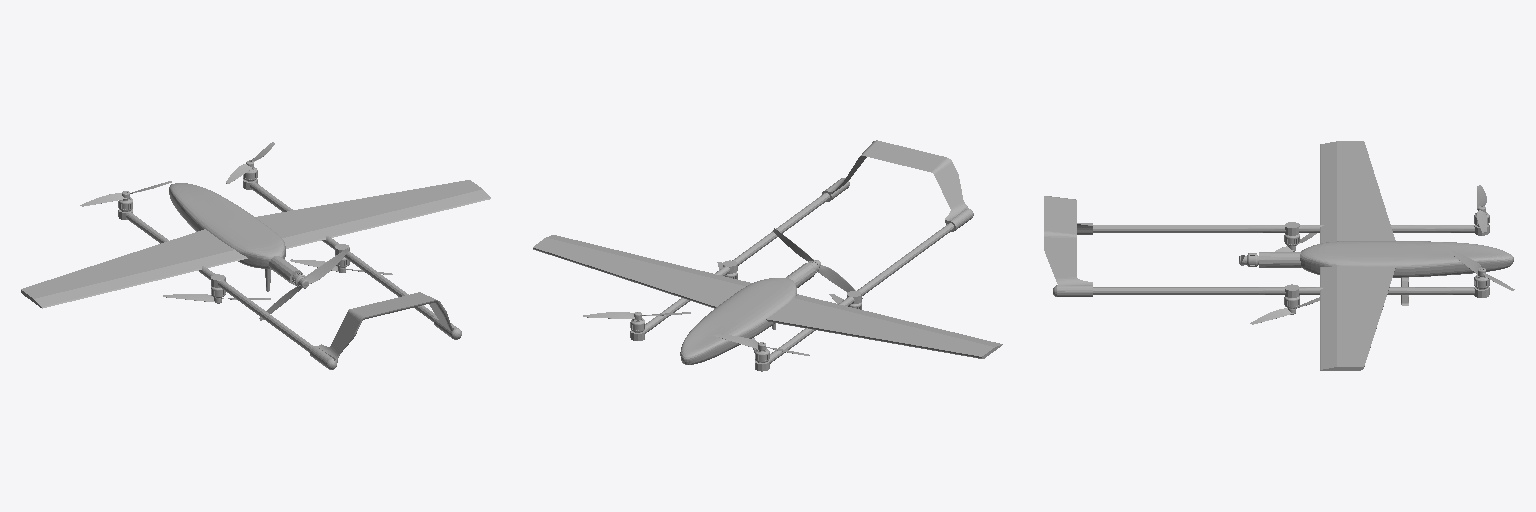
The robot description file, URDF, robot "yoonsewon":
<?xml version="1.0" ?>
<!-- =================================================================================== -->
<!-- |    This document was autogenerated by xacro from yoonsewon.xacro                | -->
<!-- |    EDITING THIS FILE BY HAND IS NOT RECOMMENDED                                 | -->
<!-- =================================================================================== -->
<robot name="yoonsewon">
  <material name="silver">
    <color rgba="0.700 0.700 0.700 1.000"/>
  </material>
  <transmission name="joint2_tran">
    <type>transmission_interface/SimpleTransmission</type>
    <joint name="joint2">
      <hardwareInterface>hardware_interface/EffortJointInterface</hardwareInterface>
    </joint>
    <actuator name="joint2_actr">
      <hardwareInterface>hardware_interface/EffortJointInterface</hardwareInterface>
      <mechanicalReduction>1</mechanicalReduction>
    </actuator>
  </transmission>
  <transmission name="joint3_tran">
    <type>transmission_interface/SimpleTransmission</type>
    <joint name="joint3">
      <hardwareInterface>hardware_interface/EffortJointInterface</hardwareInterface>
    </joint>
    <actuator name="joint3_actr">
      <hardwareInterface>hardware_interface/EffortJointInterface</hardwareInterface>
      <mechanicalReduction>1</mechanicalReduction>
    </actuator>
  </transmission>
  <transmission name="joint4_tran">
    <type>transmission_interface/SimpleTransmission</type>
    <joint name="joint4">
      <hardwareInterface>hardware_interface/EffortJointInterface</hardwareInterface>
    </joint>
    <actuator name="joint4_actr">
      <hardwareInterface>hardware_interface/EffortJointInterface</hardwareInterface>
      <mechanicalReduction>1</mechanicalReduction>
    </actuator>
  </transmission>
  <transmission name="joint5_tran">
    <type>transmission_interface/SimpleTransmission</type>
    <joint name="joint5">
      <hardwareInterface>hardware_interface/EffortJointInterface</hardwareInterface>
    </joint>
    <actuator name="joint5_actr">
      <hardwareInterface>hardware_interface/EffortJointInterface</hardwareInterface>
      <mechanicalReduction>1</mechanicalReduction>
    </actuator>
  </transmission>
  <transmission name="joint6_tran">
    <type>transmission_interface/SimpleTransmission</type>
    <joint name="joint6">
      <hardwareInterface>hardware_interface/EffortJointInterface</hardwareInterface>
    </joint>
    <actuator name="joint6_actr">
      <hardwareInterface>hardware_interface/EffortJointInterface</hardwareInterface>
      <mechanicalReduction>1</mechanicalReduction>
    </actuator>
  </transmission>
  <gazebo>
    <plugin filename="libgazebo_ros_control.so" name="control"/>
  </gazebo>
  <gazebo reference="base_link">
    <material>Gazebo/Silver</material>
    <mu1>0.2</mu1>
    <mu2>0.2</mu2>
    <selfCollide>true</selfCollide>
    <gravity>true</gravity>
  </gazebo>
  <gazebo reference="motor_v1_1">
    <material>Gazebo/Silver</material>
    <mu1>0.2</mu1>
    <mu2>0.2</mu2>
    <selfCollide>true</selfCollide>
  </gazebo>
  <gazebo reference="motor_v1__1__1">
    <material>Gazebo/Silver</material>
    <mu1>0.2</mu1>
    <mu2>0.2</mu2>
    <selfCollide>true</selfCollide>
  </gazebo>
  <gazebo reference="motor_v1__2__1">
    <material>Gazebo/Silver</material>
    <mu1>0.2</mu1>
    <mu2>0.2</mu2>
    <selfCollide>true</selfCollide>
  </gazebo>
  <gazebo reference="motor_v1__3__1">
    <material>Gazebo/Silver</material>
    <mu1>0.2</mu1>
    <mu2>0.2</mu2>
    <selfCollide>true</selfCollide>
  </gazebo>
  <gazebo reference="motor2_v1_1">
    <material>Gazebo/Silver</material>
    <mu1>0.2</mu1>
    <mu2>0.2</mu2>
    <selfCollide>true</selfCollide>
  </gazebo>
  <gazebo reference="profeller_1350_v1_1">
    <material>Gazebo/Silver</material>
    <mu1>0.2</mu1>
    <mu2>0.2</mu2>
    <selfCollide>true</selfCollide>
  </gazebo>
  <gazebo reference="profeller_1350_v1__2__1">
    <material>Gazebo/Silver</material>
    <mu1>0.2</mu1>
    <mu2>0.2</mu2>
    <selfCollide>true</selfCollide>
  </gazebo>
  <gazebo reference="profeller_1350_v1__3__1">
    <material>Gazebo/Silver</material>
    <mu1>0.2</mu1>
    <mu2>0.2</mu2>
    <selfCollide>true</selfCollide>
  </gazebo>
  <gazebo reference="profeller_1480_v1_1">
    <material>Gazebo/Silver</material>
    <mu1>0.2</mu1>
    <mu2>0.2</mu2>
    <selfCollide>true</selfCollide>
  </gazebo>
  <gazebo reference="profeller_1350_v1__1__1">
    <material>Gazebo/Silver</material>
    <mu1>0.2</mu1>
    <mu2>0.2</mu2>
    <selfCollide>true</selfCollide>
  </gazebo>
  <gazebo reference="tail_v1_1">
    <material>Gazebo/Silver</material>
    <mu1>0.2</mu1>
    <mu2>0.2</mu2>
    <selfCollide>true</selfCollide>
  </gazebo>
  <link name="base_link">
    <inertial>
      <origin rpy="0 0 0" xyz="0.2048172438463916 0.5237278515907052 0.08201638480100135"/>
      <mass value="9.256673612924148"/>
      <inertia ixx="0.418621" ixy="-0.000337" ixz="2.8e-05" iyy="0.634233" iyz="0.000423" izz="1.048893"/>
    </inertial>
    <visual>
      <origin rpy="0 0 0" xyz="0 0 0"/>
      <geometry>
        <mesh filename="package://yoonsewon_description/meshes/base_link.stl" scale="0.001 0.001 0.001"/>
      </geometry>
      <material name="silver"/>
    </visual>
    <collision>
      <origin rpy="0 0 0" xyz="0 0 0"/>
      <geometry>
        <mesh filename="package://yoonsewon_description/meshes/base_link.stl" scale="0.001 0.001 0.001"/>
      </geometry>
    </collision>
  </link>
  <link name="motor_v1_1">
    <inertial>
      <origin rpy="0 0 0" xyz="-4.839509504181438e-07 3.918150555115574e-07 -0.021724105831364887"/>
      <mass value="0.05852628730136243"/>
      <inertia ixx="1.5e-05" ixy="-0.0" ixz="-0.0" iyy="1.5e-05" iyz="0.0" izz="1.3e-05"/>
    </inertial>
    <visual>
      <origin rpy="0 0 0" xyz="0.01668 -0.296981 -0.06493"/>
      <geometry>
        <mesh filename="package://yoonsewon_description/meshes/motor_v1_1.stl" scale="0.001 0.001 0.001"/>
      </geometry>
      <material name="silver"/>
    </visual>
    <collision>
      <origin rpy="0 0 0" xyz="0.01668 -0.296981 -0.06493"/>
      <geometry>
        <mesh filename="package://yoonsewon_description/meshes/motor_v1_1.stl" scale="0.001 0.001 0.001"/>
      </geometry>
    </collision>
  </link>
  <link name="motor_v1__1__1">
    <inertial>
      <origin rpy="0 0 0" xyz="2.4292782574431016e-07 3.918150148773947e-07 -0.02172410583136445"/>
      <mass value="0.05852628730136243"/>
      <inertia ixx="1.5e-05" ixy="-0.0" ixz="-0.0" iyy="1.5e-05" iyz="0.0" izz="1.3e-05"/>
    </inertial>
    <visual>
      <origin rpy="0 0 0" xyz="-0.425468 -0.296981 -0.06493"/>
      <geometry>
        <mesh filename="package://yoonsewon_description/meshes/motor_v1__1__1.stl" scale="0.001 0.001 0.001"/>
      </geometry>
      <material name="silver"/>
    </visual>
    <collision>
      <origin rpy="0 0 0" xyz="-0.425468 -0.296981 -0.06493"/>
      <geometry>
        <mesh filename="package://yoonsewon_description/meshes/motor_v1__1__1.stl" scale="0.001 0.001 0.001"/>
      </geometry>
    </collision>
  </link>
  <link name="motor_v1__2__1">
    <inertial>
      <origin rpy="0 0 0" xyz="2.4292744760234797e-07 2.601037856209132e-07 0.021724261441448622"/>
      <mass value="0.05852628730136243"/>
      <inertia ixx="1.5e-05" ixy="-0.0" ixz="-0.0" iyy="1.5e-05" iyz="0.0" izz="1.3e-05"/>
    </inertial>
    <visual>
      <origin rpy="0 0 0" xyz="-0.425468 -0.865228 -0.08933"/>
      <geometry>
        <mesh filename="package://yoonsewon_description/meshes/motor_v1__2__1.stl" scale="0.001 0.001 0.001"/>
      </geometry>
      <material name="silver"/>
    </visual>
    <collision>
      <origin rpy="0 0 0" xyz="-0.425468 -0.865228 -0.08933"/>
      <geometry>
        <mesh filename="package://yoonsewon_description/meshes/motor_v1__2__1.stl" scale="0.001 0.001 0.001"/>
      </geometry>
    </collision>
  </link>
  <link name="motor_v1__3__1">
    <inertial>
      <origin rpy="0 0 0" xyz="-4.839514688298463e-07 2.601034713167749e-07 0.021724261441448248"/>
      <mass value="0.05852628730136243"/>
      <inertia ixx="1.5e-05" ixy="-0.0" ixz="-0.0" iyy="1.5e-05" iyz="-0.0" izz="1.3e-05"/>
    </inertial>
    <visual>
      <origin rpy="0 0 0" xyz="0.01668 -0.865228 -0.08933"/>
      <geometry>
        <mesh filename="package://yoonsewon_description/meshes/motor_v1__3__1.stl" scale="0.001 0.001 0.001"/>
      </geometry>
      <material name="silver"/>
    </visual>
    <collision>
      <origin rpy="0 0 0" xyz="0.01668 -0.865228 -0.08933"/>
      <geometry>
        <mesh filename="package://yoonsewon_description/meshes/motor_v1__3__1.stl" scale="0.001 0.001 0.001"/>
      </geometry>
    </collision>
  </link>
  <link name="motor2_v1_1">
    <inertial>
      <origin rpy="0 0 0" xyz="-1.2051151535019677e-07 -0.01995018890125902 3.1915735547449753e-07"/>
      <mass value="0.04532760237460443"/>
      <inertia ixx="1e-05" ixy="-0.0" ixz="0.0" iyy="8e-06" iyz="-0.0" izz="1e-05"/>
    </inertial>
    <visual>
      <origin rpy="0 0 0" xyz="-0.204394 -0.196572 -0.076661"/>
      <geometry>
        <mesh filename="package://yoonsewon_description/meshes/motor2_v1_1.stl" scale="0.001 0.001 0.001"/>
      </geometry>
      <material name="silver"/>
    </visual>
    <collision>
      <origin rpy="0 0 0" xyz="-0.204394 -0.196572 -0.076661"/>
      <geometry>
        <mesh filename="package://yoonsewon_description/meshes/motor2_v1_1.stl" scale="0.001 0.001 0.001"/>
      </geometry>
    </collision>
  </link>
  <link name="profeller_1350_v1_1">
    <inertial>
      <origin rpy="0 0 0" xyz="1.819620451447798 0.32072524408078307 -0.07514680253907399"/>
      <mass value="0.01689409412325324"/>
      <inertia ixx="1e-06" ixy="-1e-06" ixz="-0.0" iyy="5.2e-05" iyz="0.0" izz="5.3e-05"/>
    </inertial>
    <visual>
      <origin rpy="0 0 0" xyz="1.834902 -0.544557 -0.215692"/>
      <geometry>
        <mesh filename="package://yoonsewon_description/meshes/profeller_1350_v1_1.stl" scale="0.001 0.001 0.001"/>
      </geometry>
      <material name="silver"/>
    </visual>
    <collision>
      <origin rpy="0 0 0" xyz="1.834902 -0.544557 -0.215692"/>
      <geometry>
        <mesh filename="package://yoonsewon_description/meshes/profeller_1350_v1_1.stl" scale="0.001 0.001 0.001"/>
      </geometry>
    </collision>
  </link>
  <link name="profeller_1350_v1__2__1">
    <inertial>
      <origin rpy="0 0 0" xyz="-1.0090401475123467 1.7427246844552697 -0.04163980253907425"/>
      <mass value="0.01689409412325324"/>
      <inertia ixx="1.8e-05" ixy="2.4e-05" ixz="0.0" iyy="3.5e-05" iyz="-0.0" izz="5.3e-05"/>
    </inertial>
    <visual>
      <origin rpy="0 0 0" xyz="-0.9912 1.444959 -0.058634"/>
      <geometry>
        <mesh filename="package://yoonsewon_description/meshes/profeller_1350_v1__2__1.stl" scale="0.001 0.001 0.001"/>
      </geometry>
      <material name="silver"/>
    </visual>
    <collision>
      <origin rpy="0 0 0" xyz="-0.9912 1.444959 -0.058634"/>
      <geometry>
        <mesh filename="package://yoonsewon_description/meshes/profeller_1350_v1__2__1.stl" scale="0.001 0.001 0.001"/>
      </geometry>
    </collision>
  </link>
  <link name="profeller_1350_v1__3__1">
    <inertial>
      <origin rpy="0 0 0" xyz="-0.25352015005843626 1.6035870253492162 -0.0421548025390739"/>
      <mass value="0.01689409412325324"/>
      <inertia ixx="3.1e-05" ixy="2.5e-05" ixz="0.0" iyy="2.3e-05" iyz="-0.0" izz="5.3e-05"/>
    </inertial>
    <visual>
      <origin rpy="0 0 0" xyz="-0.678062 1.305556 -0.058634"/>
      <geometry>
        <mesh filename="package://yoonsewon_description/meshes/profeller_1350_v1__3__1.stl" scale="0.001 0.001 0.001"/>
      </geometry>
      <material name="silver"/>
    </visual>
    <collision>
      <origin rpy="0 0 0" xyz="-0.678062 1.305556 -0.058634"/>
      <geometry>
        <mesh filename="package://yoonsewon_description/meshes/profeller_1350_v1__3__1.stl" scale="0.001 0.001 0.001"/>
      </geometry>
    </collision>
  </link>
  <link name="profeller_1480_v1_1">
    <inertial>
      <origin rpy="0 0 0" xyz="-0.9063261119491344 0.018091728521597378 -1.4489643108148564"/>
      <mass value="0.020359256171264842"/>
      <inertia ixx="1.6e-05" ixy="-0.0" ixz="-2.8e-05" iyy="7.3e-05" iyz="-0.0" izz="5.8e-05"/>
    </inertial>
    <visual>
      <origin rpy="0 0 0" xyz="-1.109376 -0.12983 -1.52492"/>
      <geometry>
        <mesh filename="package://yoonsewon_description/meshes/profeller_1480_v1_1.stl" scale="0.001 0.001 0.001"/>
      </geometry>
      <material name="silver"/>
    </visual>
    <collision>
      <origin rpy="0 0 0" xyz="-1.109376 -0.12983 -1.52492"/>
      <geometry>
        <mesh filename="package://yoonsewon_description/meshes/profeller_1480_v1_1.stl" scale="0.001 0.001 0.001"/>
      </geometry>
    </collision>
  </link>
  <link name="profeller_1350_v1__1__1">
    <inertial>
      <origin rpy="0 0 0" xyz="0.0011634836447337316 0.0007792373525745688 0.011897197460926406"/>
      <mass value="0.01689409412325324"/>
      <inertia ixx="1.6e-05" ixy="-2.3e-05" ixz="-0.0" iyy="3.7e-05" iyz="-0.0" izz="5.3e-05"/>
    </inertial>
    <visual>
      <origin rpy="0 0 0" xyz="-0.425468 -0.865228 -0.129448"/>
      <geometry>
        <mesh filename="package://yoonsewon_description/meshes/profeller_1350_v1__1__1.stl" scale="0.001 0.001 0.001"/>
      </geometry>
      <material name="silver"/>
    </visual>
    <collision>
      <origin rpy="0 0 0" xyz="-0.425468 -0.865228 -0.129448"/>
      <geometry>
        <mesh filename="package://yoonsewon_description/meshes/profeller_1350_v1__1__1.stl" scale="0.001 0.001 0.001"/>
      </geometry>
    </collision>
  </link>
  <link name="tail_v1_1">
    <inertial>
      <origin rpy="0 0 0" xyz="-0.42296819185358203 -0.613794025567939 -0.02257370288866689"/>
      <mass value="0.4550748977110902"/>
      <inertia ixx="0.002474" ixy="-5e-06" ixz="9.4e-05" iyy="0.014714" iyz="0.000673" izz="0.013426"/>
    </inertial>
    <visual>
      <origin rpy="0 0 0" xyz="-0.629862 -0.224219 -0.174019"/>
      <geometry>
        <mesh filename="package://yoonsewon_description/meshes/tail_v1_1.stl" scale="0.001 0.001 0.001"/>
      </geometry>
      <material name="silver"/>
    </visual>
    <collision>
      <origin rpy="0 0 0" xyz="-0.629862 -0.224219 -0.174019"/>
      <geometry>
        <mesh filename="package://yoonsewon_description/meshes/tail_v1_1.stl" scale="0.001 0.001 0.001"/>
      </geometry>
    </collision>
  </link>
  <joint name="joint2" type="continuous">
    <origin rpy="0 0 0" xyz="-0.01668 0.296981 0.06493"/>
    <parent link="base_link"/>
    <child link="motor_v1_1"/>
    <axis xyz="-0.0 -0.0 -1.0"/>
  </joint>
  <joint name="joint3" type="continuous">
    <origin rpy="0 0 0" xyz="0.425468 0.296981 0.06493"/>
    <parent link="base_link"/>
    <child link="motor_v1__1__1"/>
    <axis xyz="-0.0 -0.0 -1.0"/>
  </joint>
  <joint name="joint4" type="continuous">
    <origin rpy="0 0 0" xyz="0.425468 0.865228 0.08933"/>
    <parent link="base_link"/>
    <child link="motor_v1__2__1"/>
    <axis xyz="0.0 0.0 1.0"/>
  </joint>
  <joint name="joint5" type="continuous">
    <origin rpy="0 0 0" xyz="-0.01668 0.865228 0.08933"/>
    <parent link="base_link"/>
    <child link="motor_v1__3__1"/>
    <axis xyz="0.0 0.0 1.0"/>
  </joint>
  <joint name="joint6" type="continuous">
    <origin rpy="0 0 0" xyz="0.204394 0.196572 0.076661"/>
    <parent link="base_link"/>
    <child link="motor2_v1_1"/>
    <axis xyz="-0.0 -1.0 0.0"/>
  </joint>
  <joint name="joint7" type="fixed">
    <origin rpy="0 0 0" xyz="-1.818222 -0.320671 0.126362"/>
    <parent link="motor_v1__3__1"/>
    <child link="profeller_1350_v1_1"/>
  </joint>
  <joint name="joint9" type="fixed">
    <origin rpy="0 0 0" xyz="1.00788 -1.74194 -0.006296"/>
    <parent link="motor_v1_1"/>
    <child link="profeller_1350_v1__2__1"/>
  </joint>
  <joint name="joint10" type="fixed">
    <origin rpy="0 0 0" xyz="0.252594 -1.602537 -0.006296"/>
    <parent link="motor_v1__1__1"/>
    <child link="profeller_1350_v1__3__1"/>
  </joint>
  <joint name="joint11" type="fixed">
    <origin rpy="0 0 0" xyz="0.904982 -0.066742 1.448259"/>
    <parent link="motor2_v1_1"/>
    <child link="profeller_1480_v1_1"/>
  </joint>
  <joint name="joint12" type="fixed">
    <origin rpy="0 0 0" xyz="0.0 0.0 0.040118"/>
    <parent link="motor_v1__2__1"/>
    <child link="profeller_1350_v1__1__1"/>
  </joint>
  <joint name="joint13" type="fixed">
    <origin rpy="0 0 0" xyz="0.629862 0.224219 0.174019"/>
    <parent link="base_link"/>
    <child link="tail_v1_1"/>
  </joint>
</robot>

--- What the picture shows (computed from the rendered views, not written in the file) ---
Views: 3 orthographic renders of the robot side by side, from view 1: azimuth 30°, elevation 25°; view 2: azimuth 150°, elevation 25°; view 3: azimuth 270°, elevation 25°.
Model yoonsewon with 12 links and 11 joints (5 continuous, 6 fixed), rooted at base_link, posed every joint at zero.
Visible links, largest first — view 1: base_link, tail_v1_1, profeller_1480_v1_1; view 2: base_link, tail_v1_1, profeller_1480_v1_1; view 3: base_link, tail_v1_1.
Boxes of the visible links, x1,y1,x2,y2 form: base_link: (21, 179, 490, 352); tail_v1_1: (310, 292, 461, 369); profeller_1480_v1_1: (259, 248, 348, 320); base_link: (533, 193, 1002, 371); tail_v1_1: (822, 140, 973, 231); profeller_1480_v1_1: (773, 228, 862, 298); base_link: (1093, 141, 1513, 370); tail_v1_1: (1044, 196, 1092, 296).
Bounding box of the posed robot: 1.6 × 1.41 × 0.2792 m (x, y, z).
Meshes: 12 distinct files referenced, 12 mesh visuals loaded (12 binary STL).
